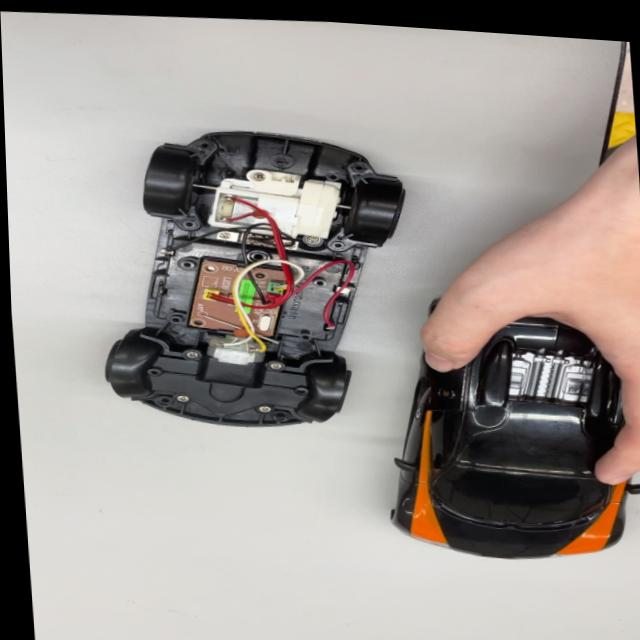Chassis: (86, 118, 420, 448)
vehicle_body: (352, 280, 640, 570)
